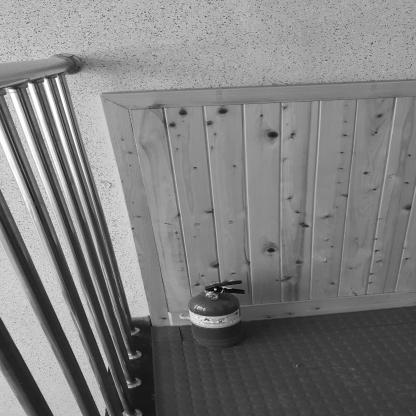FE: (191, 280, 246, 349)
